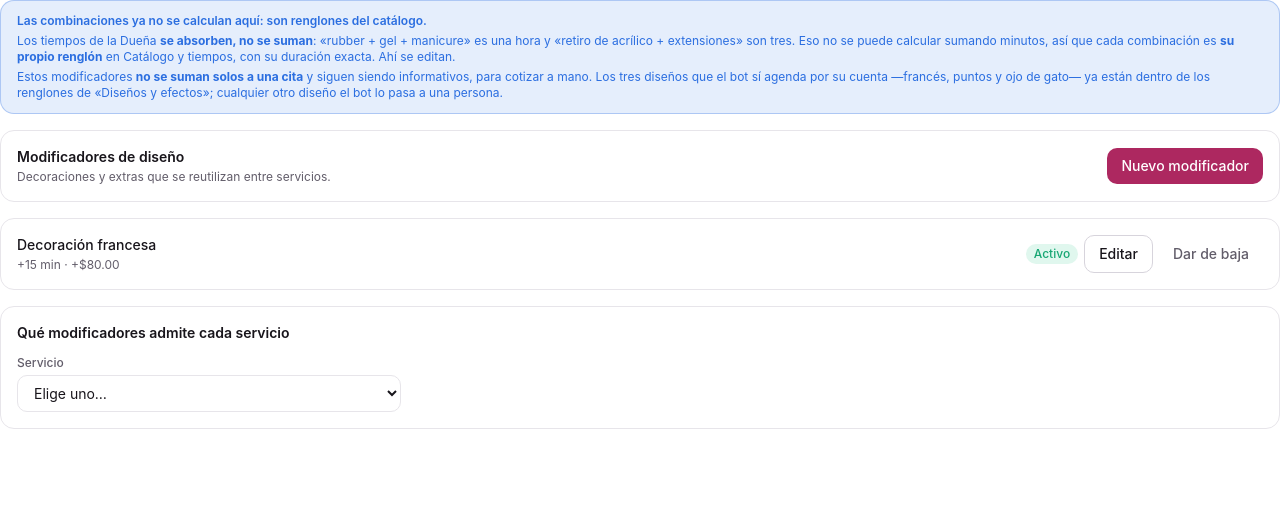
Scenario: Backoffice — los fallos no dejan promesas rechazadas sueltas › dar de baja un modificador que falla tampoco
Click the button with aria-label "Dar de baja Decoración francesa": (1211, 254) top-left (1159, 236), bottom-right (1263, 272)
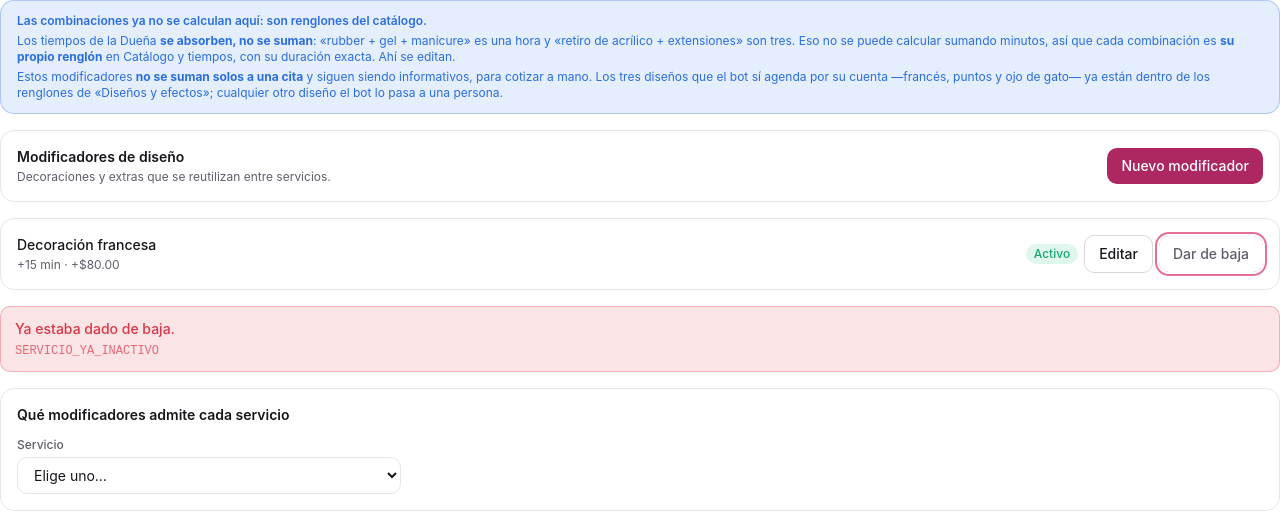
expect the message shows "Ya estaba dado de baja.": met, box top-left (15, 320), bottom-right (175, 337)
